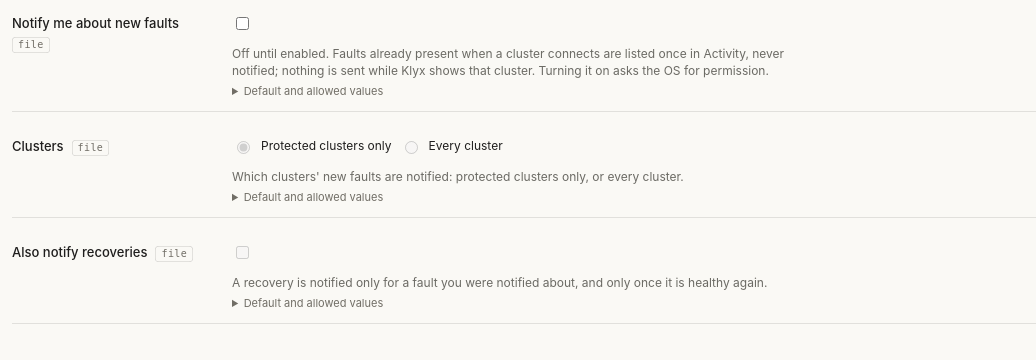
NotificationSettingsPanel › a toggle applies at once and says nothing running ends
Click the checkbox labelled "Notify me about new faults" at (242, 23), box [236,16,249,30]
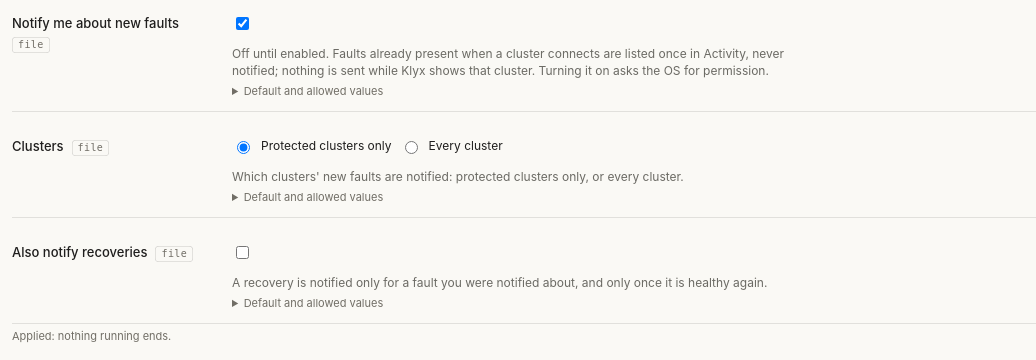
expect the checkbox labelled "Notify me about new faults" is checked: met, box [236,16,249,30]
expect the message reads "Applied: nothing running ends.": met, box [12,329,171,343]
